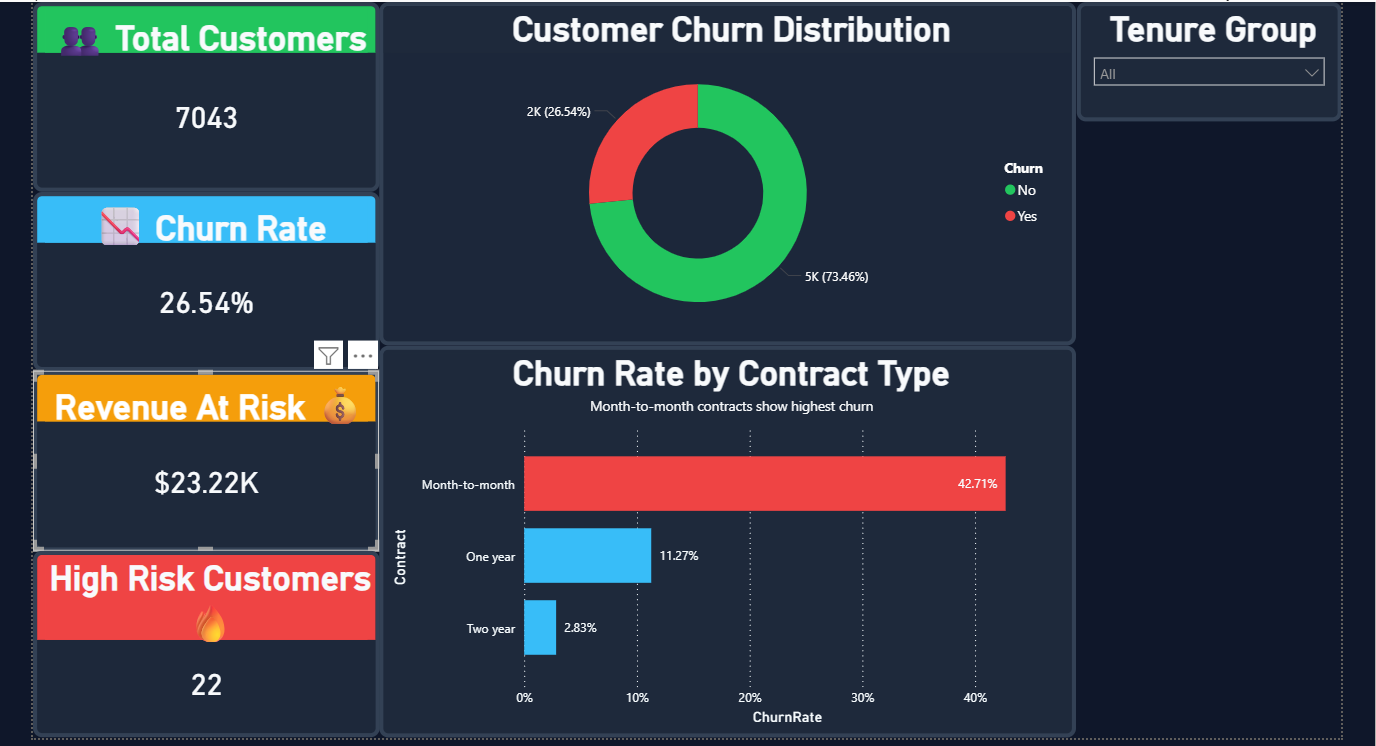

Layout of this report page (visuals, bound fields, positions):
{"tool":"powerbi","page":{"name":"Executive Overview","canvas":[1280,720],"ordinal":0},"visuals":[{"type":"card","title":"👥 Total Customers","fields":{"Values":["churn_predictions.TotalCustomers"]},"box":[0,0,339.2,185.3],"z":0},{"type":"card","title":"📉 Churn Rate","fields":{"Values":["churn_predictions.ChurnRate"]},"box":[0,185.3,339.2,175.3],"z":1000},{"type":"card","title":"Revenue At Risk 💰","fields":{"Values":["churn_predictions.RevenueAtRisk"]},"box":[0,360.6,339.2,176.7],"z":2000},{"type":"card","title":"High Risk Customers 🔥","fields":{"Values":["churn_predictions.HighRiskCustomers"]},"box":[0,537.4,339.2,182.4],"z":3000},{"type":"donutChart","title":"Customer Churn Distribution","fields":{"Category":["churn_predictions.Churn"],"Y":["churn_predictions.TotalCustomers"]},"box":[339.2,0,681.3,336.4],"z":4000},{"type":"barChart","title":"Churn Rate by Contract Type","fields":{"Category":["churn_predictions.Contract"],"Y":["churn_predictions.ChurnRate"]},"box":[339.2,336.4,681.3,383.4],"z":5000},{"type":"slicer","title":"Tenure Group","fields":{"Values":["churn_predictions.TenureGroup"]},"box":[1020.6,0,259.4,116.9],"z":6000}]}

Visuals, with their boxes in screenshot pixels (x1, y1, x2, y2):
"👥 Total Customers" card: x1=29, y1=0, x2=375, y2=189
"📉 Churn Rate" card: x1=29, y1=189, x2=375, y2=368
"Revenue At Risk 💰" card: x1=29, y1=368, x2=375, y2=549
"High Risk Customers 🔥" card: x1=29, y1=549, x2=375, y2=735
"Customer Churn Distribution" donutChart: x1=375, y1=0, x2=1070, y2=343
"Churn Rate by Contract Type" barChart: x1=375, y1=343, x2=1070, y2=735
"Tenure Group" slicer: x1=1071, y1=0, x2=1335, y2=119
